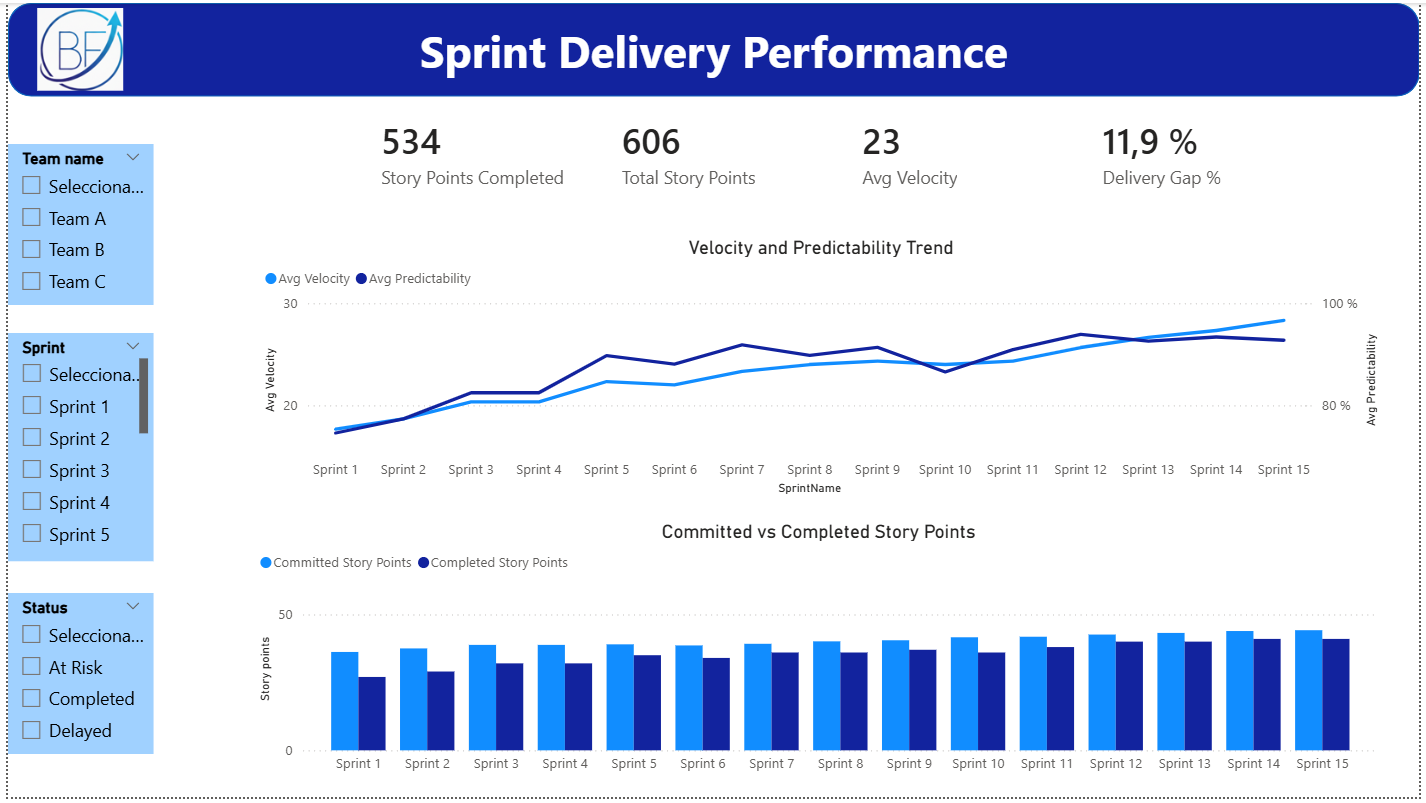

This screenshot's page, from the dashboard's own definition file:
{"tool":"powerbi","page":{"name":"Sprint Delivery Performance","canvas":[1280,720],"ordinal":2},"visuals":[{"type":"cardVisual","fields":{"Data":["Medidas DAX.TotalStoryPointsCompleted","Medidas DAX.TotalStoryPoints","Medidas DAX.AvgVelocity","Medidas DAX.Delivery Gap %"]},"box":[296.3,84.7,907.1,102.8],"z":0},{"type":"shape","box":[0,0,1280,84.8],"z":1000},{"type":"slicer","fields":{"Values":["Agile_sprint.SprintName"]},"box":[0,299.7,132.4,206.8],"z":2000},{"type":"slicer","fields":{"Values":["Agile_sprint.TeamName"]},"box":[0,127.8,132.4,146.4],"z":3000},{"type":"slicer","fields":{"Values":["Agile_sprint.SprintStatus"]},"box":[0,535.5,132.4,146.4],"z":4000},{"type":"image","box":[24.4,4.6,82.5,75.5],"z":5000},{"type":"lineChart","title":"Velocity and Predictability Trend","fields":{"Category":["Agile_sprint.SprintName"],"Y":["Medidas DAX.AvgVelocity"],"Y2":["Medidas DAX.Avg Predictability"]},"box":[227.8,211.7,1019,238.9],"z":6000},{"type":"clusteredColumnChart","title":"Committed vs Completed Story Points","fields":{"Category":["Agile_sprint.SprintName"],"Y":["Medidas DAX.Committed Story Points","Medidas DAX.Completed Story Points"]},"box":[222.7,468.7,1024,238.9],"z":7000}]}

Visuals, with their boxes in screenshot pixels (x1, y1, x2, y2), scaled from the page's 1280x720 canvas onto the 1426x803 screenshot:
cardVisual - Medidas DAX.TotalStoryPointsCompleted x Medidas DAX.TotalStoryPoints: 330/94/1341/209
shape: 0/0/1425/95
slicer - Agile_sprint.SprintName: 0/334/148/565
slicer - Agile_sprint.TeamName: 0/143/148/306
slicer - Agile_sprint.SprintStatus: 0/597/148/761
image: 27/5/119/89
"Velocity and Predictability Trend" lineChart: 254/236/1389/503
"Committed vs Completed Story Points" clusteredColumnChart: 248/523/1389/789
